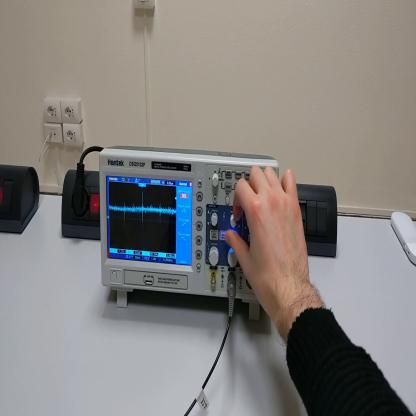hand: (227, 163, 314, 322)
oscilloscope: (100, 145, 280, 322)
socket: (60, 170, 101, 243), (2, 166, 43, 232)
